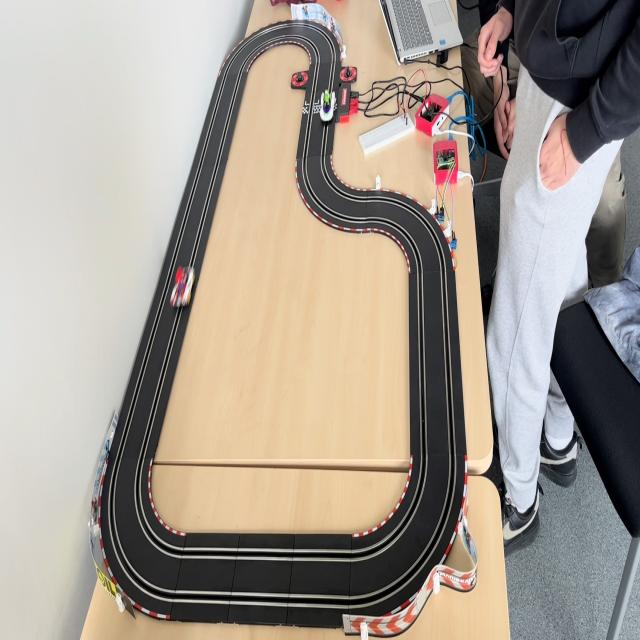mario: (167, 262, 197, 311)
yoshi: (320, 88, 336, 124)
